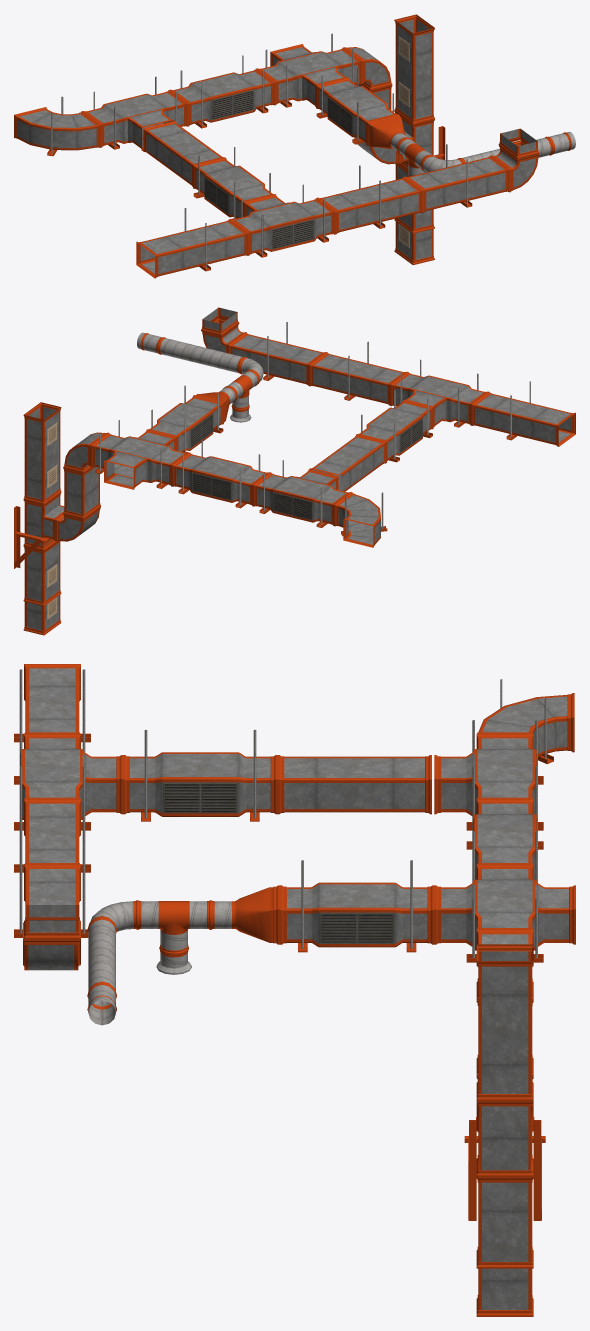
Rendered from Modul_Test.fbx.
3 views of the same model, one above another, from view 1: azimuth 30°, elevation 25°; view 2: azimuth 150°, elevation 25°; view 3: azimuth 270°, elevation 25° (orthographic). The views are drawn at different scales.
Visible parts, largest first — view 1: Object130, Object138, Object108, Object104, Object102, Object107, Object134, Object135, Object127, Object129, Object131, Object128 (+11 smaller); view 2: Object108, Object107, Object138, Object104, Object102, Object133, Object134, Object130, Object135, Object131, Object129, Object128 (+11 smaller); view 3: Object129, Object131, Object108, Object128, Object104, Object133, Object130, Object107, Object138, Object102, Object134, Object105 (+11 smaller).
Boxes of the visible parts, x1,y1,x2,y2 form: Object130: (230,184,335,257); Object138: (136,208,248,278); Object108: (257,33,362,108); Object104: (394,14,434,124); Object102: (170,55,275,128); Object107: (83,76,188,150); Object134: (317,165,422,234); Object135: (404,144,509,212); Object127: (14,96,100,156); Object129: (316,67,398,144); Object131: (193,147,275,219); Object128: (143,121,224,187); Object108: (91,420,188,489); Object107: (253,460,351,527); Object138: (471,381,575,446); Object104: (23,402,61,504); Object102: (172,440,269,508); Object133: (23,541,61,635); Object134: (309,341,406,405); Object130: (390,359,488,428); Object135: (228,322,326,385); Object131: (356,390,432,462); Object129: (147,385,223,452); Object128: (310,434,386,491); Object129: (280,860,434,952); Object131: (123,729,277,821); Object108: (434,849,575,962); Object128: (277,755,431,814); Object104: (476,944,533,1100); Object133: (476,1177,533,1316); Object130: (14,720,123,830); Object107: (434,720,543,830); Object138: (14,664,90,742); Object102: (466,785,543,879); Object134: (14,799,90,872); Object105: (476,1101,533,1176).
Size of the model in its own units: 1015 by 521 by 728.
